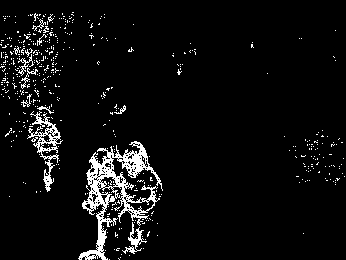person: (121, 139, 162, 251), (86, 147, 124, 260), (29, 107, 61, 194)
